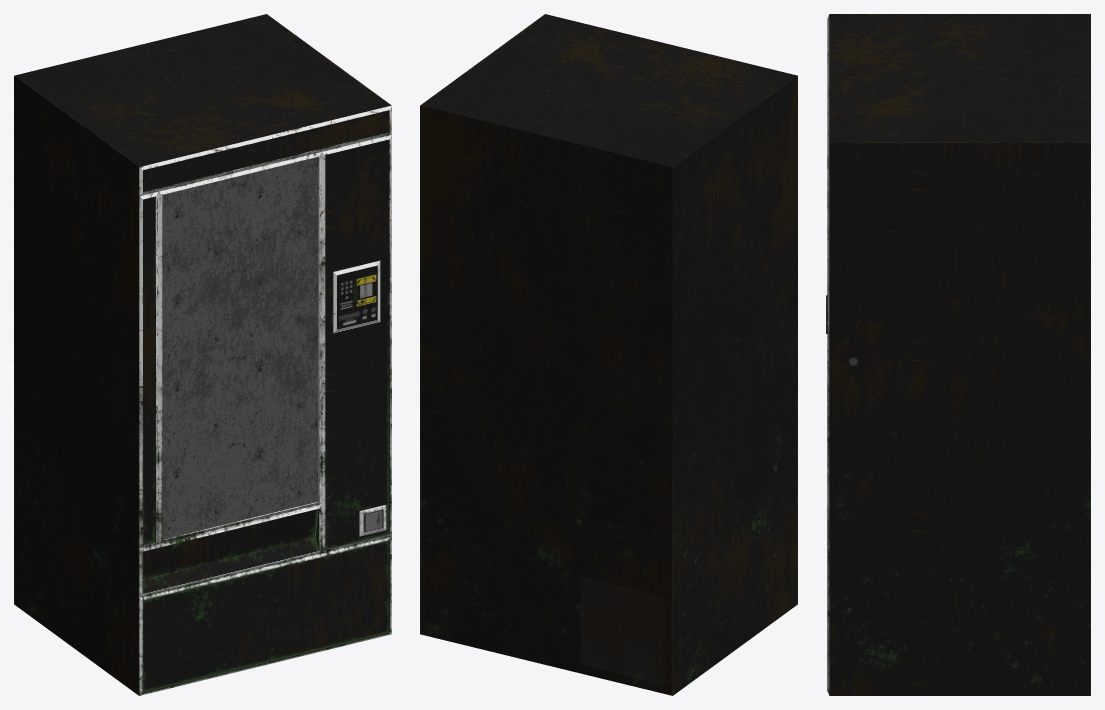
The model's file is Vending_Machine.fbx.
The picture shows the model from 3 angles, left to right: view 1: azimuth 30°, elevation 25°; view 2: azimuth 150°, elevation 25°; view 3: azimuth 270°, elevation 25°; orthographic projection. The views are drawn at different scales.
Parts seen in each view (by area): view 1: Vend_Body, Vend_Glass; view 2: Vend_Body; view 3: Vend_Body.
Part boxes in pixels (x1,y1,x2,y2): Vend_Body: (14,14,391,695); Vend_Glass: (162,157,318,539); Vend_Body: (420,14,797,695); Vend_Body: (826,14,1090,695).
Bounding box in the file's own units: 42 × 84 × 36.46.
4 materials, 4 textured.
